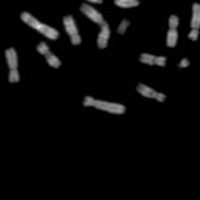chromosome: (80, 4, 109, 48), (20, 11, 57, 39), (85, 97, 125, 115), (37, 42, 60, 68), (137, 82, 165, 102), (63, 15, 81, 44), (187, 2, 200, 41), (5, 47, 18, 82), (166, 15, 178, 47), (139, 53, 165, 66), (116, 18, 129, 35), (115, 0, 149, 6), (179, 58, 188, 68), (0, 0, 14, 6), (87, 0, 103, 3)
